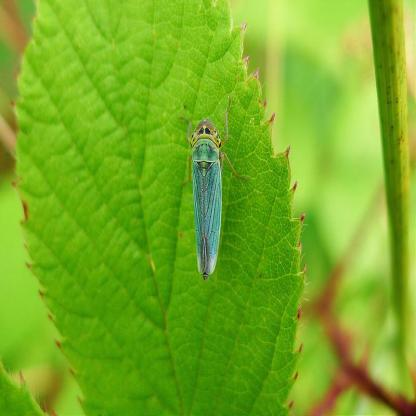Green-Leafhopper: (179, 91, 247, 284)
